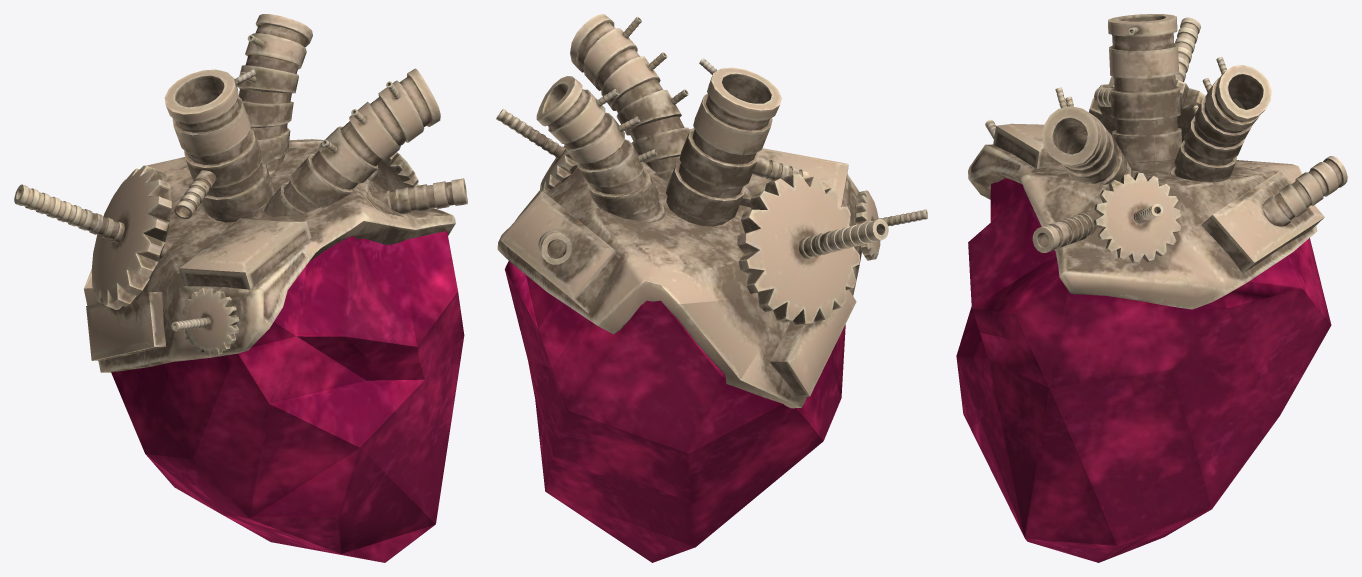
Rendered from crystal_heart_2.glb.
3 renders of one model, left to right at view 1: azimuth 30°, elevation 25°; view 2: azimuth 150°, elevation 25°; view 3: azimuth 270°, elevation 25°, orthographic.
Parts seen in each view (by area): view 1: Hart; view 2: Hart; view 3: Hart.
Boxes of the visible parts, x1=… form: Hart: x1=14, y1=14, x2=467, y2=562; Hart: x1=496, y1=14, x2=927, y2=562; Hart: x1=956, y1=14, x2=1347, y2=562.
Size of the model in its own units: 153 by 182 by 130.
Materials: 1 (1 with a texture image).
